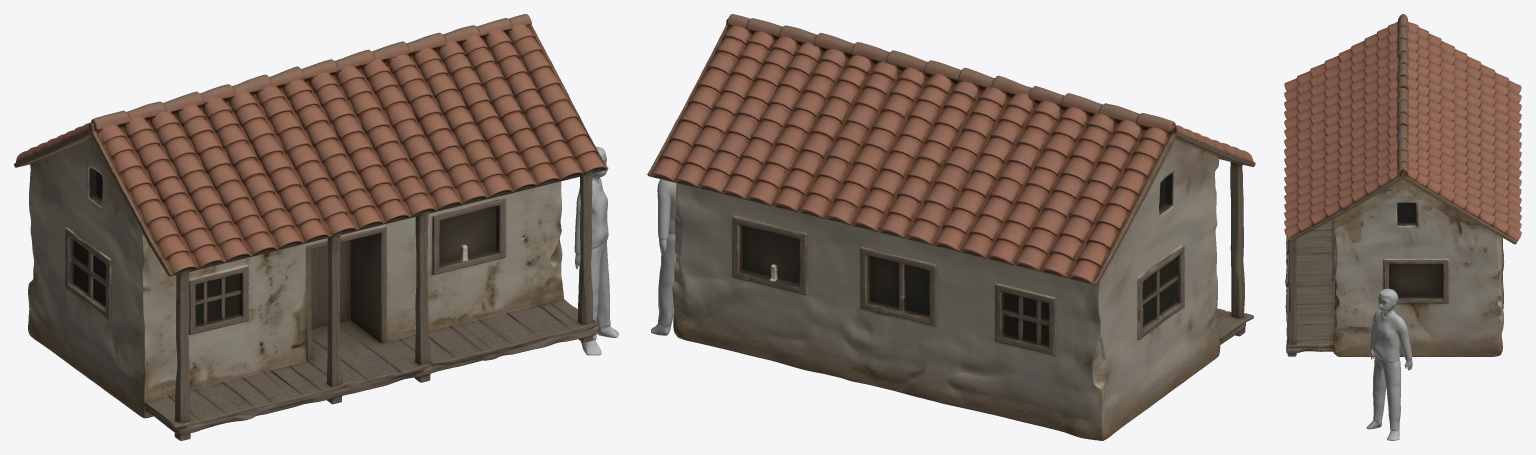
The model's file is 36-las-apariciones-de-los-espíritus-familiares-optimized.glb.
The picture shows the model from 3 angles, left to right: view 1: azimuth 30°, elevation 25°; view 2: azimuth 150°, elevation 25°; view 3: azimuth 270°, elevation 25°; orthographic projection. The views are drawn at different scales.
Visible parts, largest first — view 1: tripo_node_c2f8c806-2907-432e-ad4b-0f93db48bde5; view 2: tripo_node_c2f8c806-2907-432e-ad4b-0f93db48bde5; view 3: tripo_node_c2f8c806-2907-432e-ad4b-0f93db48bde5.
Part boxes in pixels (x1,y1,x2,y2): tripo_node_c2f8c806-2907-432e-ad4b-0f93db48bde5: (14, 14, 618, 440); tripo_node_c2f8c806-2907-432e-ad4b-0f93db48bde5: (647, 14, 1255, 440); tripo_node_c2f8c806-2907-432e-ad4b-0f93db48bde5: (1284, 14, 1521, 440).
Size of the model in its own units: 1 by 0.6198 by 0.5421.
1 material, 1 textured.
